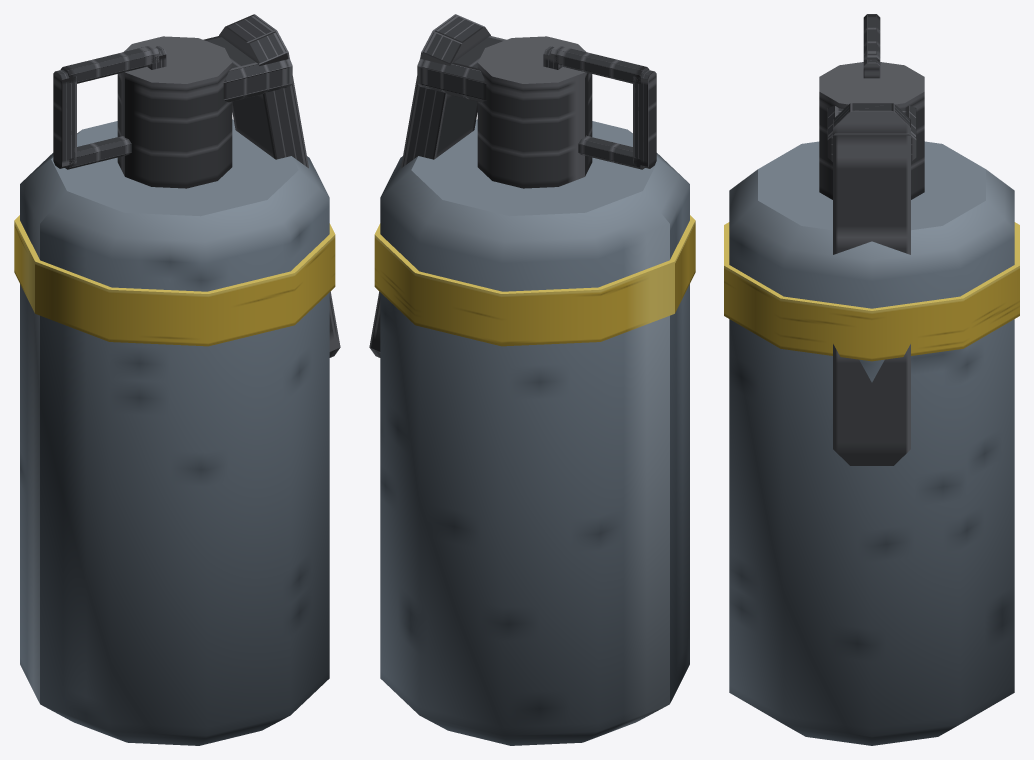
Rendered from SmokeGrenade_1P.glb.
3 views of the same model, side by side, from view 1: azimuth 30°, elevation 25°; view 2: azimuth 150°, elevation 25°; view 3: azimuth 270°, elevation 25° (orthographic). The views are drawn at different scales.
Parts seen in each view (by area): view 1: SmokeGrenade_1P; view 2: SmokeGrenade_1P; view 3: SmokeGrenade_1P.
Boxes of the visible parts, left/top/right/bottom form: SmokeGrenade_1P: left=14, top=14, right=340, bottom=745; SmokeGrenade_1P: left=369, top=14, right=695, bottom=745; SmokeGrenade_1P: left=724, top=14, right=1019, bottom=745.
Size of the model in its own units: 0.0577 by 0.1255 by 0.0533.
1 material, 1 textured.
